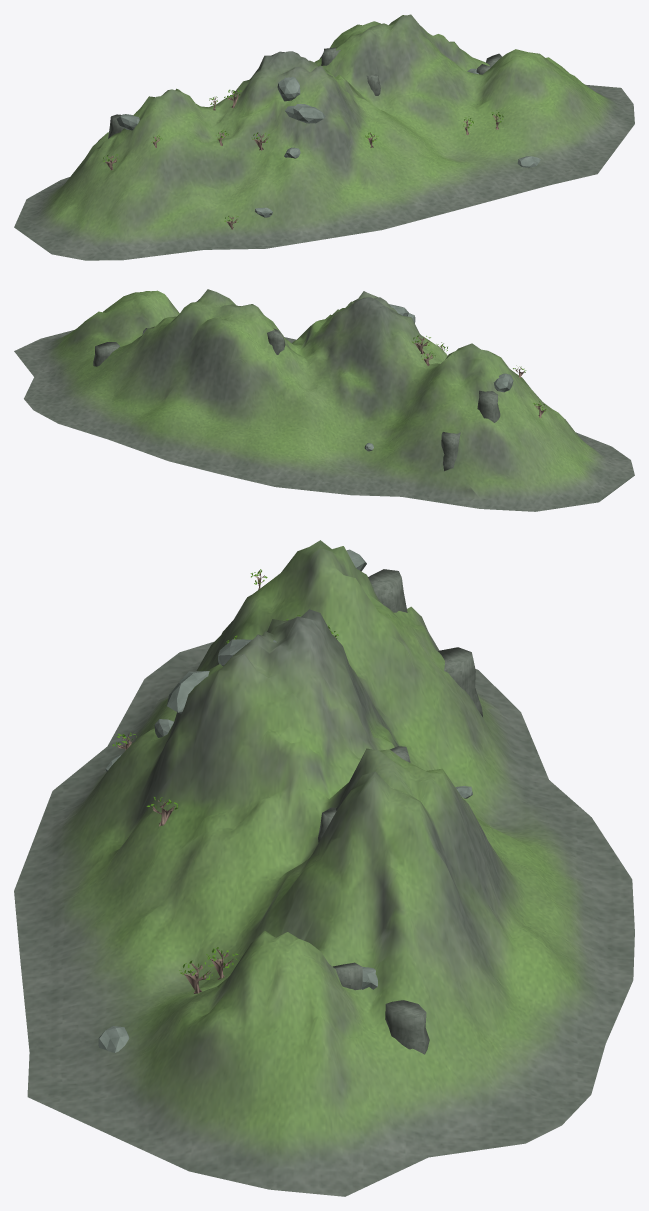
File: thanh-son.glb
The picture shows the model from 3 angles, top to bottom: view 1: azimuth 30°, elevation 25°; view 2: azimuth 150°, elevation 25°; view 3: azimuth 270°, elevation 25°; orthographic projection. The views are drawn at different scales.
Parts seen in each view (by area): view 1: Thanh Sơn · weathered mountain, Thanh Sơn talus, Thanh Sơn talus.001; view 2: Thanh Sơn · weathered mountain, Thanh Sơn fractured bedrock.003, Thanh Sơn fractured bedrock.004, Thanh Sơn fractured bedrock.005; view 3: Thanh Sơn · weathered mountain, Thanh Sơn fractured bedrock.005, Thanh Sơn fractured bedrock.003, Thanh Sơn fractured bedrock.004.
Boxes of the visible parts, x1,y1,x2,y2 form: Thanh Sơn · weathered mountain: (14,14,634,260); Thanh Sơn talus: (285,104,325,123); Thanh Sơn talus.001: (277,72,300,101); Thanh Sơn · weathered mountain: (14,289,634,511); Thanh Sơn fractured bedrock.003: (441,432,460,471); Thanh Sơn fractured bedrock.004: (477,390,500,422); Thanh Sơn fractured bedrock.005: (93,342,120,366); Thanh Sơn · weathered mountain: (14,540,634,1196); Thanh Sơn fractured bedrock.005: (385,1000,429,1054); Thanh Sơn fractured bedrock.003: (438,647,482,716); Thanh Sơn fractured bedrock.004: (368,569,407,612).
Size of the model in its own units: 280 by 60.01 by 131.
Materials: 4 (4 with a texture image).
